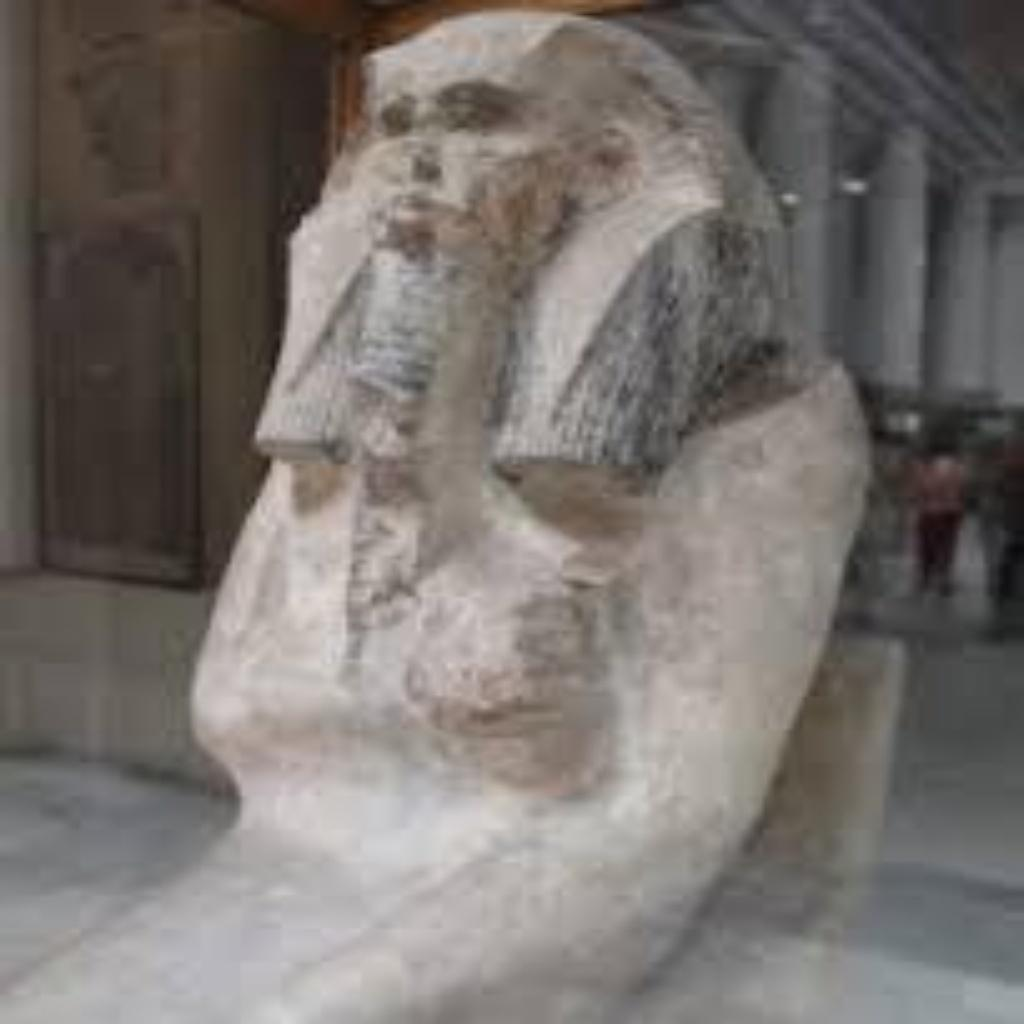Statue of King Zoser: (0, 0, 878, 1020)
